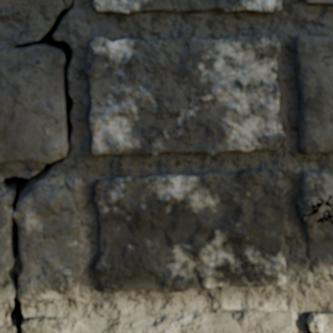brick: (86, 33, 284, 156), (93, 170, 285, 292), (0, 47, 66, 162), (295, 36, 332, 153), (93, 0, 281, 12), (303, 206, 332, 279), (296, 170, 332, 216), (307, 312, 332, 332), (0, 0, 55, 6), (305, 0, 332, 2), (63, 0, 70, 4)
broken_brick: (14, 183, 81, 303), (23, 309, 292, 332), (0, 189, 13, 304), (0, 324, 14, 332)
crack: (0, 0, 74, 332), (300, 193, 332, 225)
